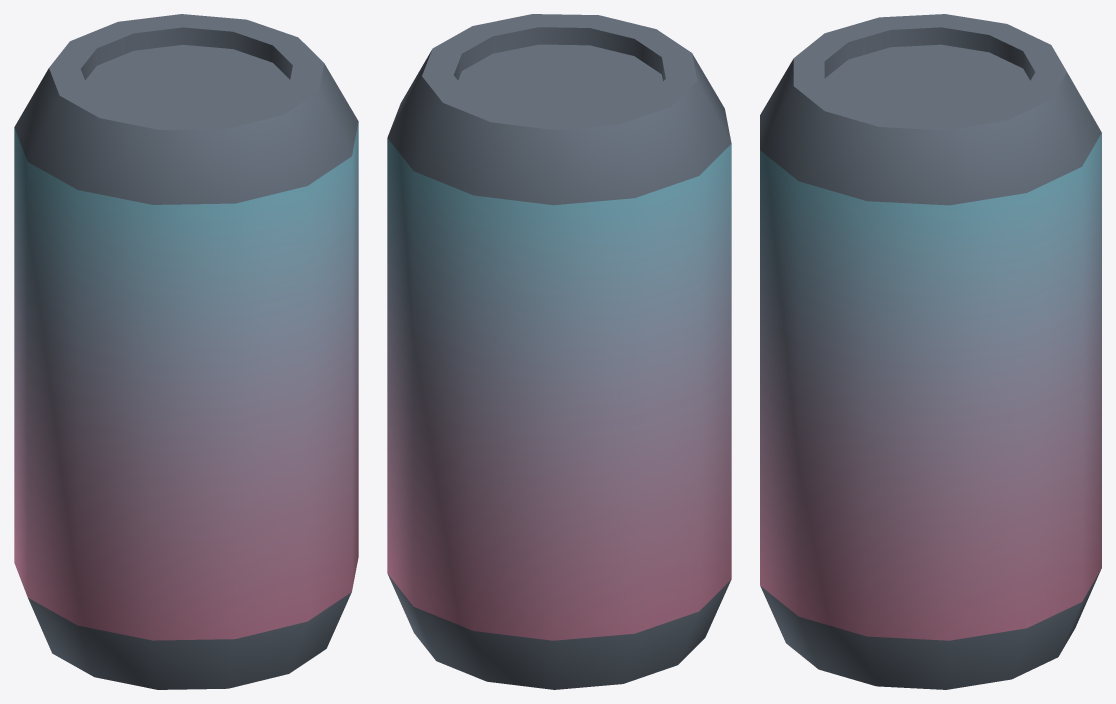
Rendered from EnergyCan_03.fbx.
The picture shows the model from 3 angles, left to right: view 1: azimuth 30°, elevation 25°; view 2: azimuth 150°, elevation 25°; view 3: azimuth 270°, elevation 25°; orthographic projection.
Parts seen in each view (by area): view 1: Can.003; view 2: Can.003; view 3: Can.003.
Part boxes in pixels (x1,y1,x2,y2): Can.003: (14,14,358,689); Can.003: (387,14,731,689); Can.003: (760,14,1101,689).
Size of the model in its own units: 4.34 by 7.73 by 4.31.
